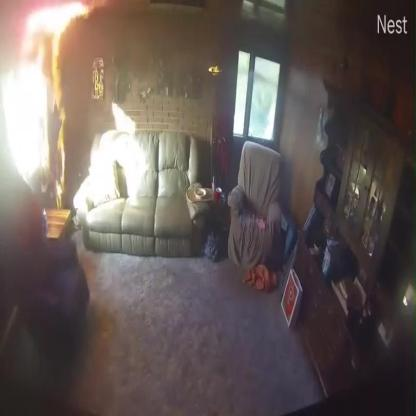fire: (19, 0, 89, 49), (50, 53, 66, 204)
